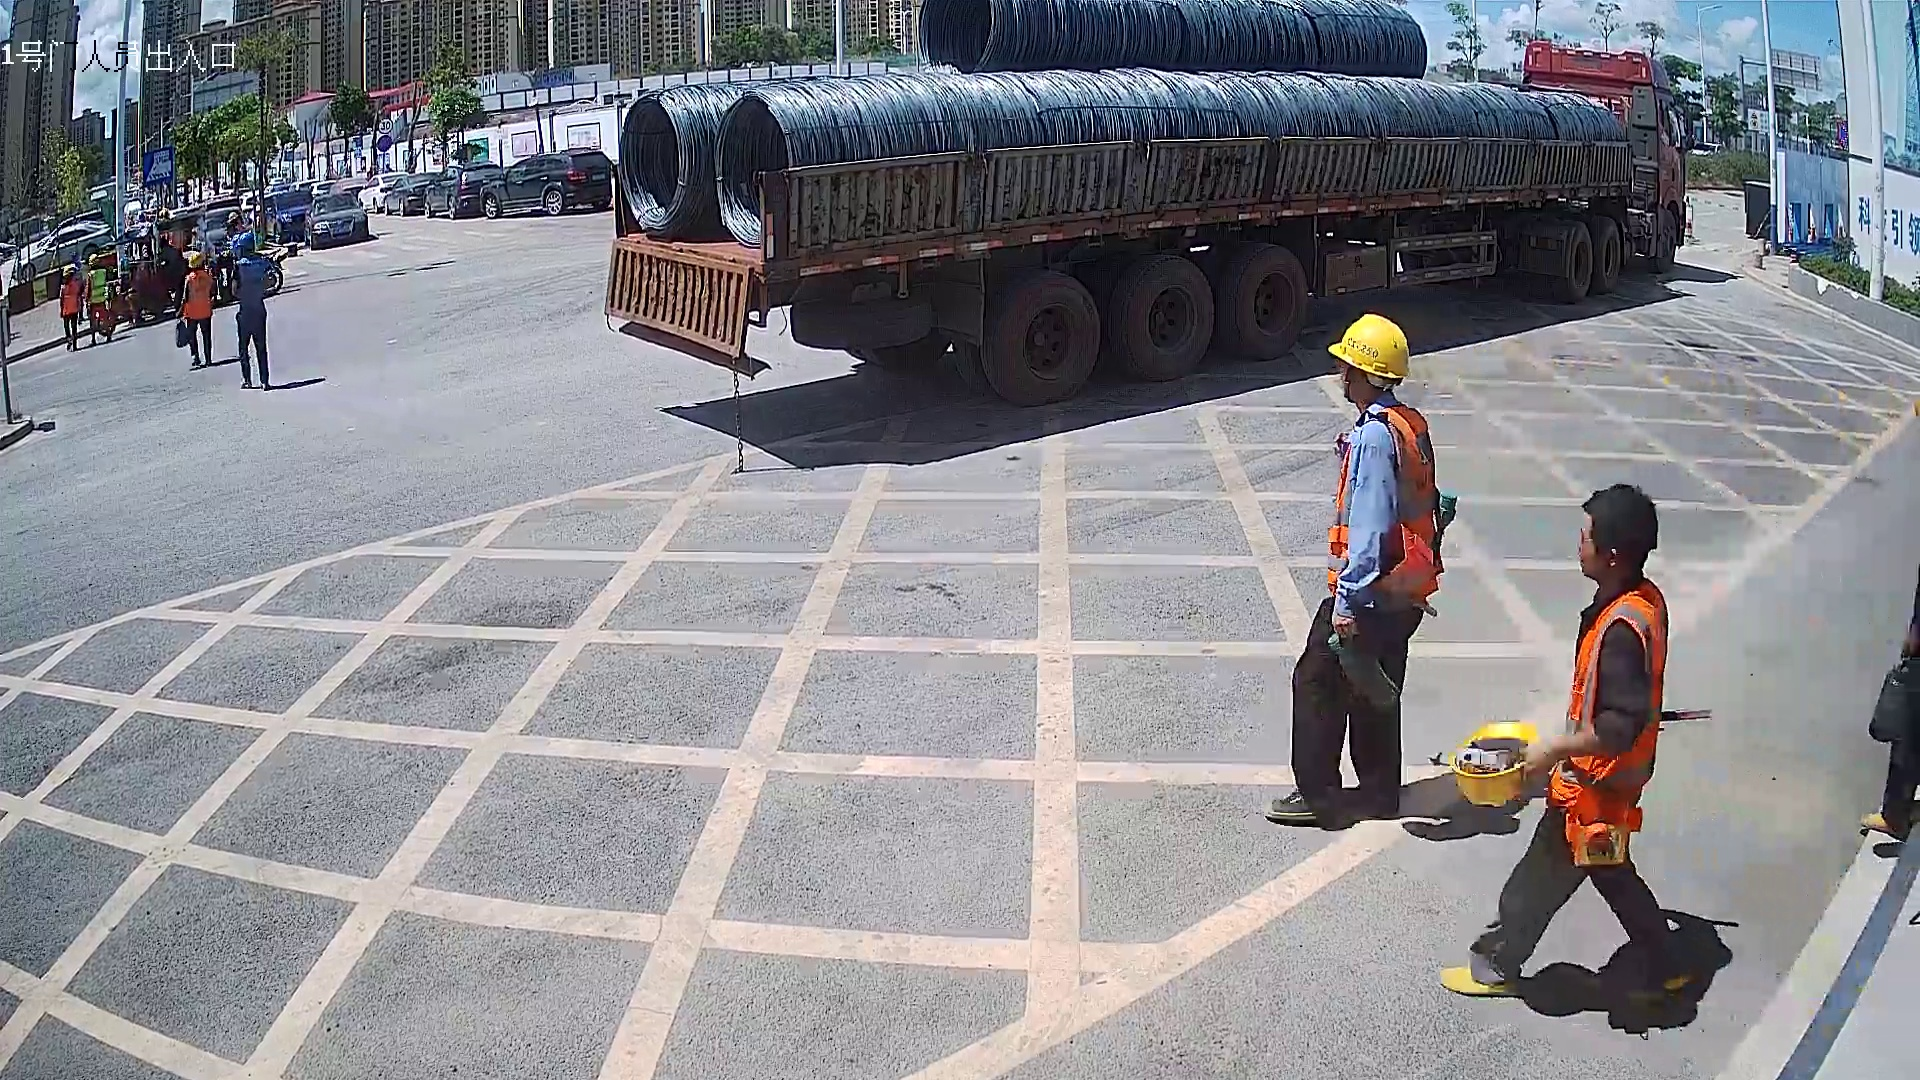head: (1572, 480, 1666, 583)
person: (1433, 476, 1708, 1004), (1261, 306, 1458, 833), (230, 230, 275, 393), (175, 252, 216, 370), (84, 252, 112, 347), (58, 264, 84, 353)
reflective_vest: (1541, 576, 1671, 831), (1325, 403, 1443, 606), (183, 270, 212, 319), (88, 268, 107, 305)
safety_helmet: (1446, 714, 1541, 811), (1324, 305, 1412, 408), (232, 230, 255, 257), (188, 251, 208, 270), (88, 252, 101, 268)
